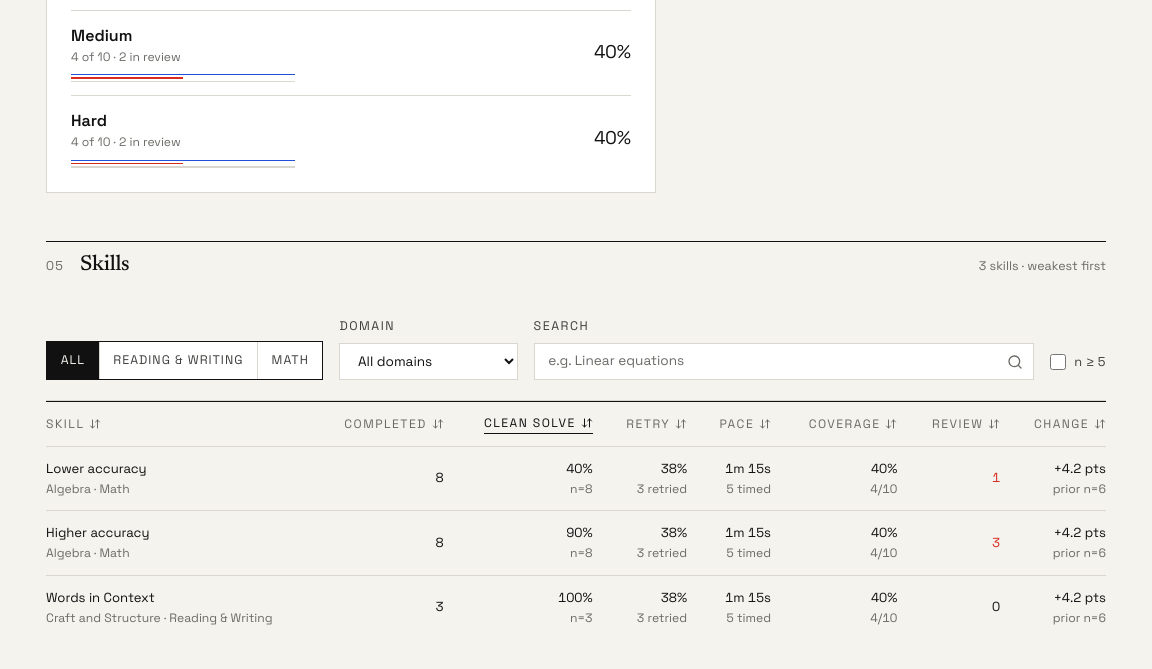
Scenario: ProgressPage › filters skills by section, domain, search and sample size while recomputing the slice
The image size is (1152, 669).
(page scrolled)
Expected: the heading "Skills" is shown, left=80, top=254, right=129, bottom=277
Click the button "Math".
click(290, 360)  # box left=258, top=342, right=322, bottom=379
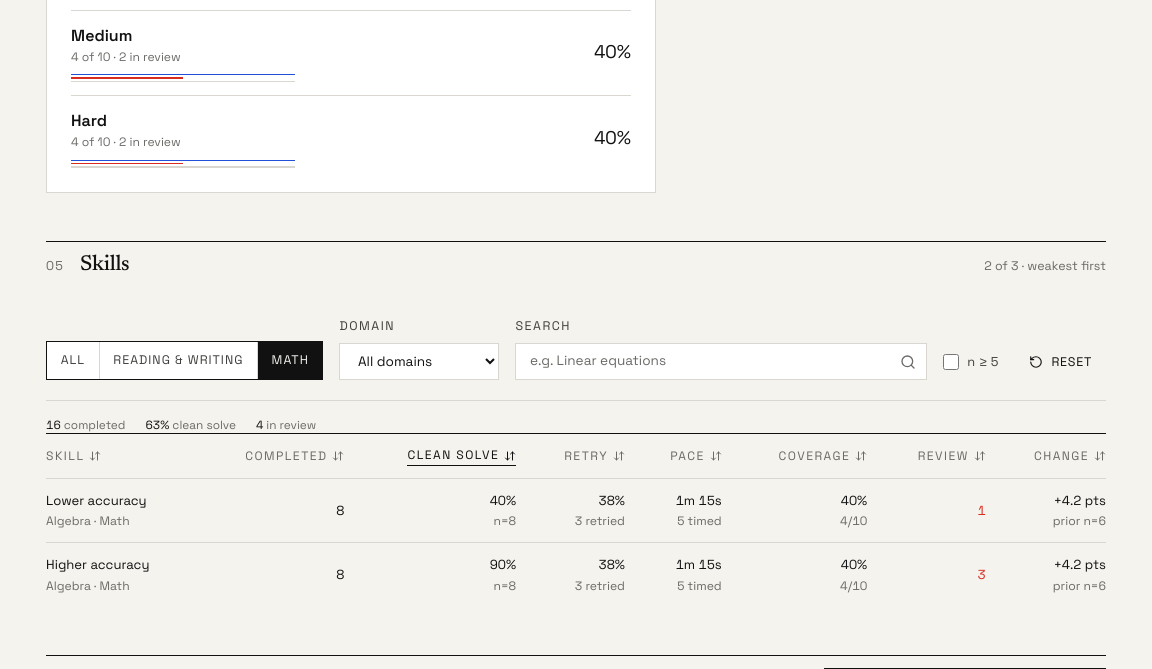
Expected: the text "Craft and Structure" is gone
Expected: the text "16" is shown, left=46, top=417, right=61, bottom=432
Expected: the text "63%" is shown, left=146, top=417, right=169, bottom=432
Click the button "All" in the row of "n ≥ 5".
click(73, 360)  # box left=47, top=342, right=100, bottom=379
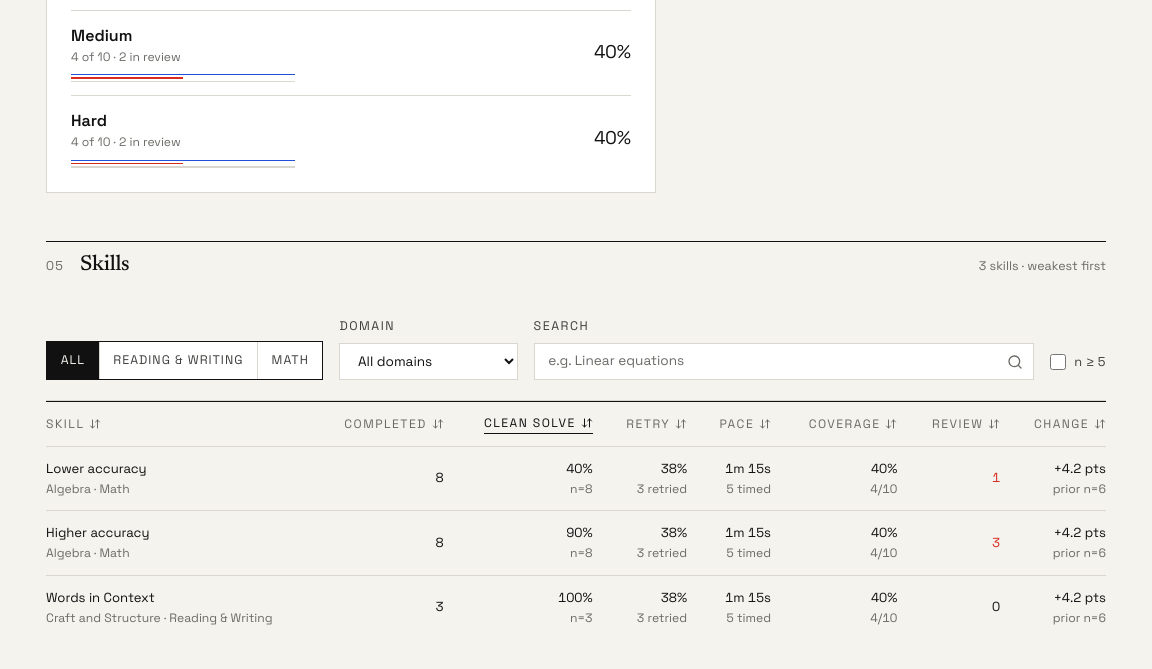
Type "words" into the search field labelled "Search".
click(784, 362); type("words")  # box left=534, top=343, right=1034, bottom=380
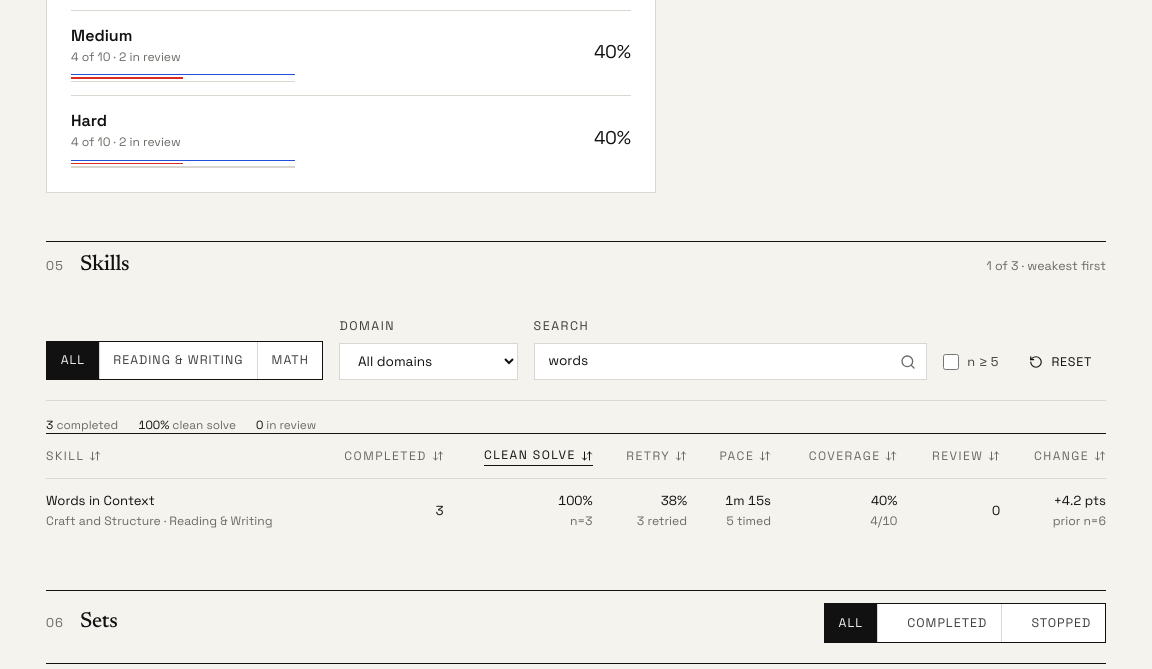
Expected: the 1st text "100%" is shown, left=138, top=417, right=169, bottom=432
Click the checkbox labelled "n ≥ 5".
click(951, 362)  # box left=943, top=354, right=959, bottom=370
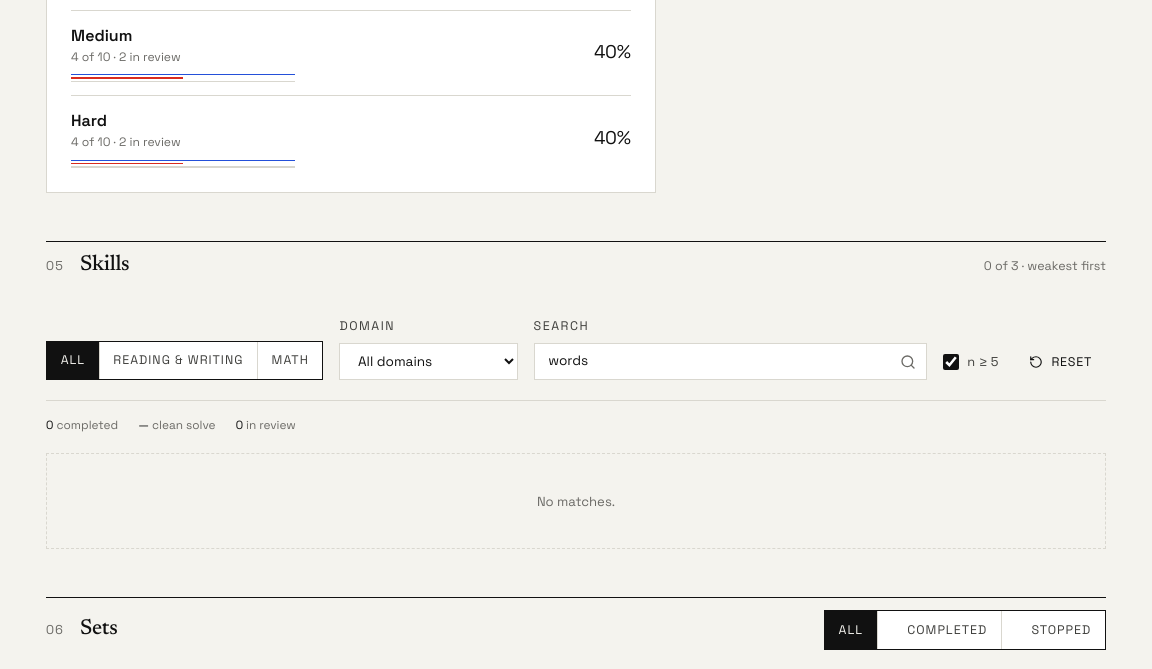
Expected: the text "0 of 3 · weakest first" is shown, left=984, top=256, right=1106, bottom=275
Expected: the text "No matches." is shown, left=46, top=454, right=1106, bottom=550
Click the button "Reset".
click(1060, 362)  # box left=1015, top=344, right=1106, bottom=380
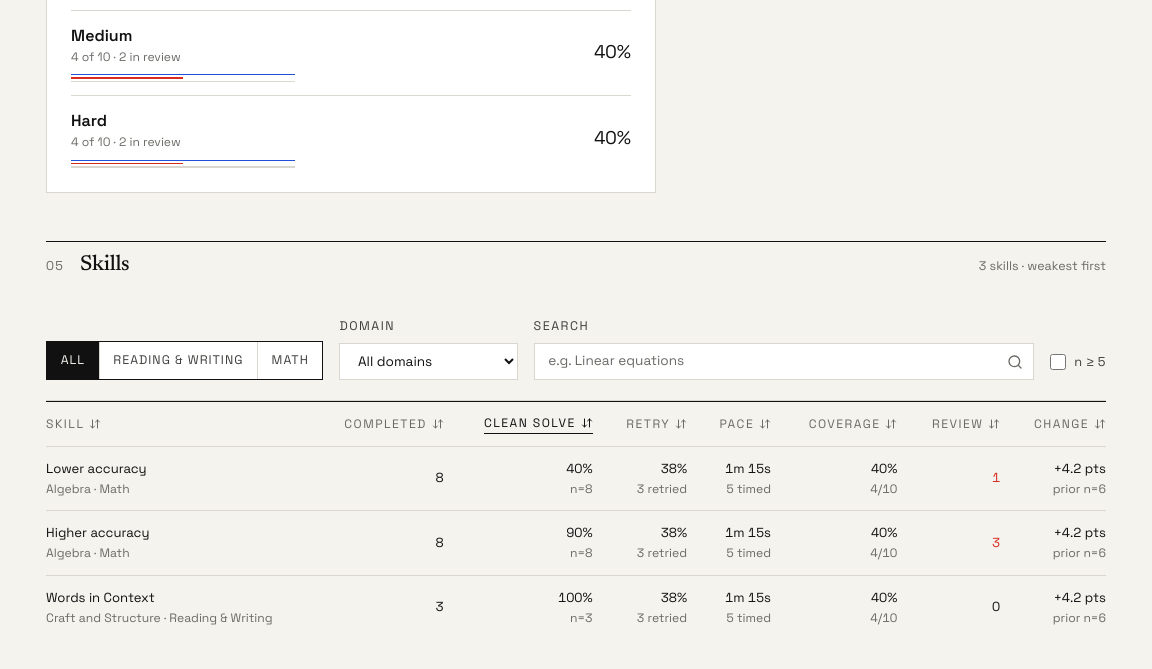
Expected: the text "3 skills · weakest first" is shown, left=979, top=256, right=1106, bottom=275
